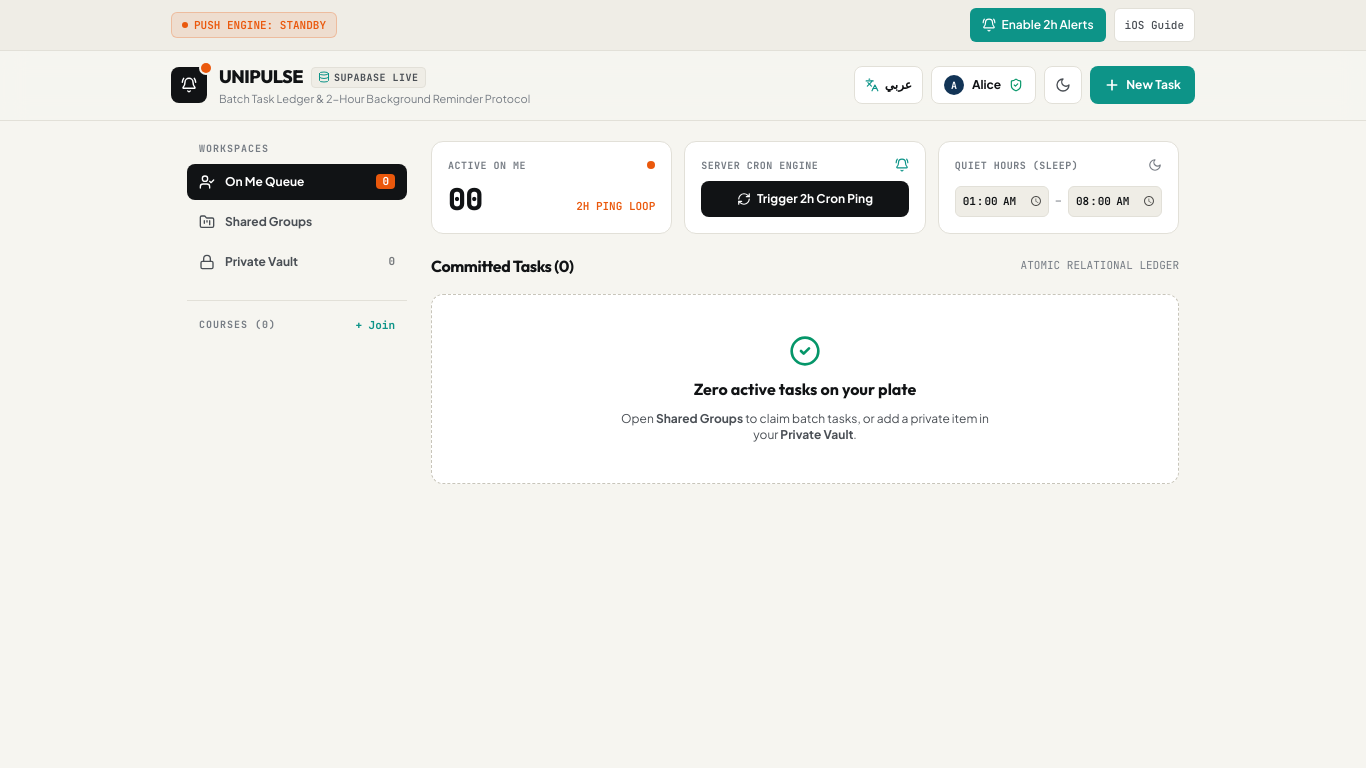
Test: does not restore a signed-out student from an older in-flight state response
Click the button "A Alice": (984, 85) [931,66,1036,104]
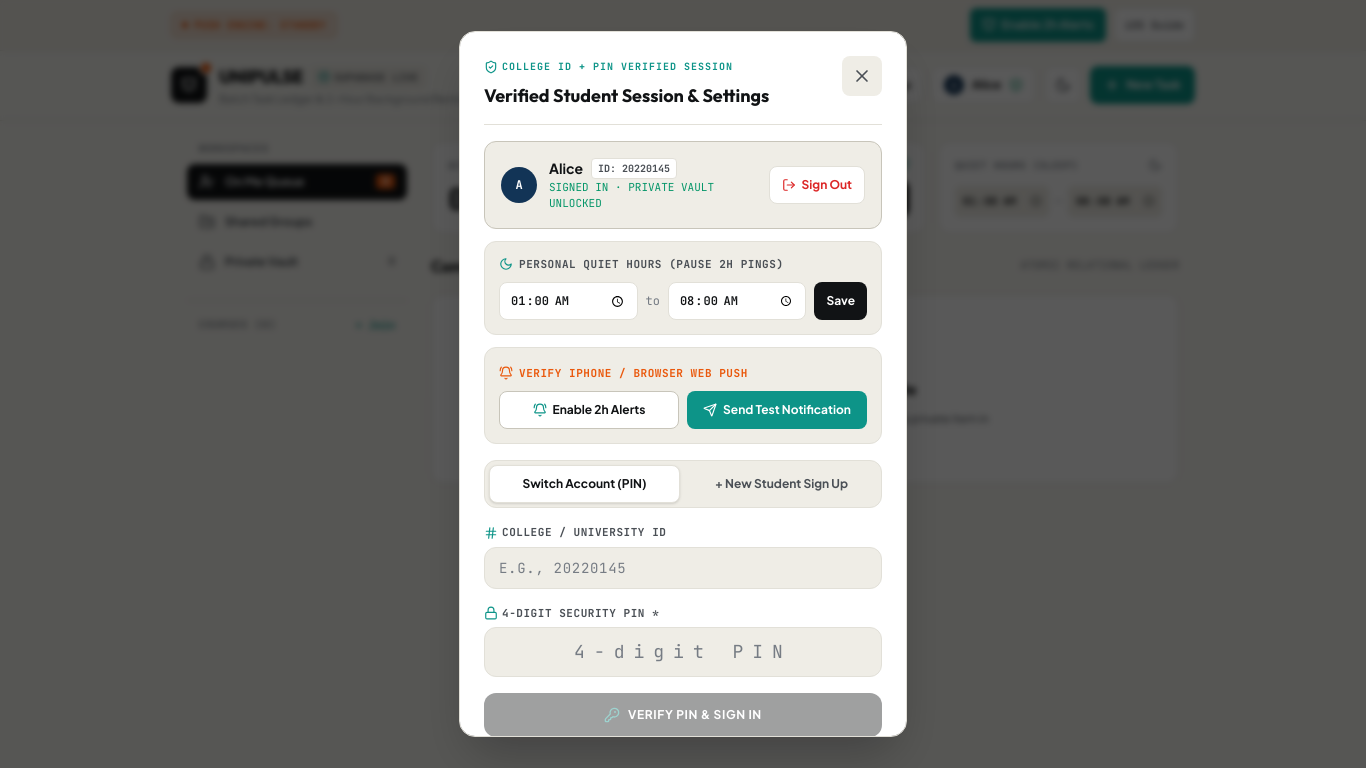
Click the button "Sign Out": (817, 185) [768,166,865,204]
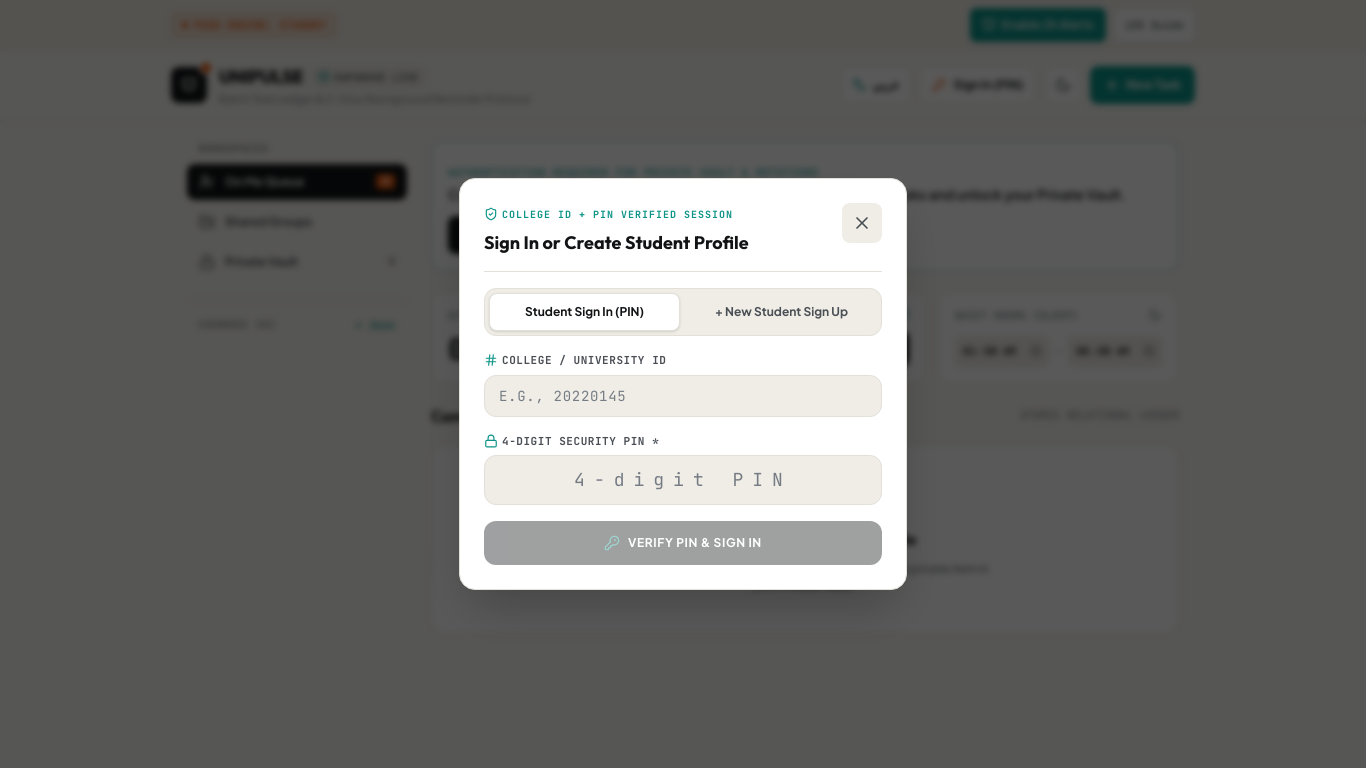
expect the button "Alice" is not shown: met
expect the button "Sign In (PIN)" is shown: met, box [919,66,1036,104]
